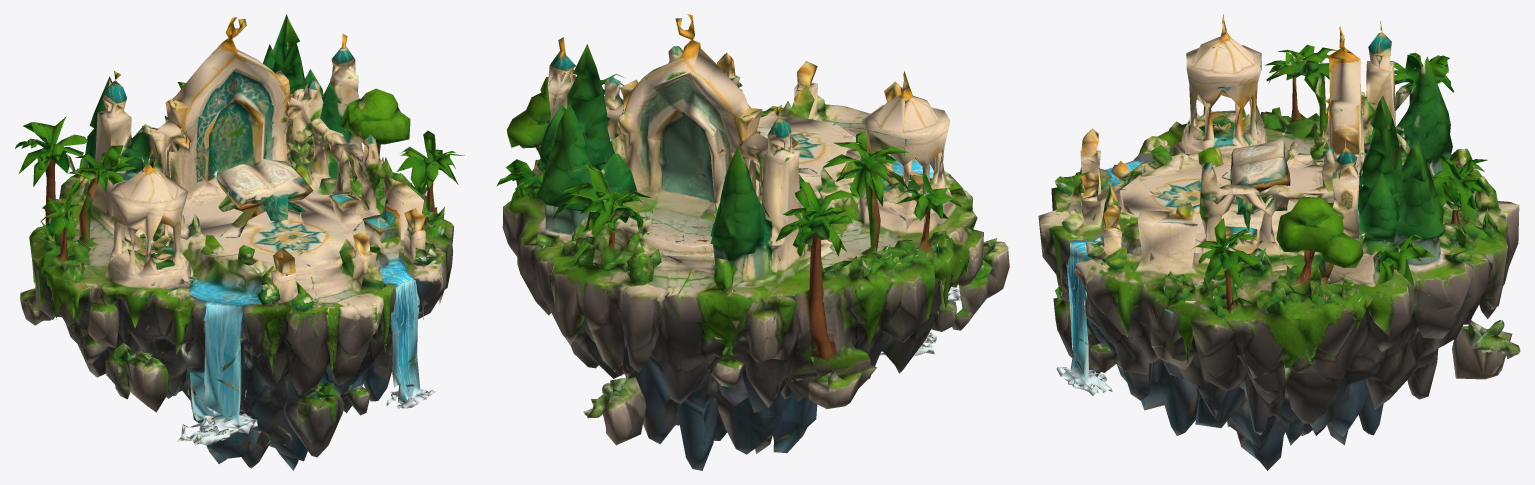
The model's file is pulau-quran.glb.
3 views of the same model, side by side, from view 1: azimuth 30°, elevation 25°; view 2: azimuth 150°, elevation 25°; view 3: azimuth 270°, elevation 25° (orthographic). The views are drawn at different scales.
Bounding box in the file's own units: 1.84 × 1.88 × 1.85.
Materials: 1 (1 with a texture image).
